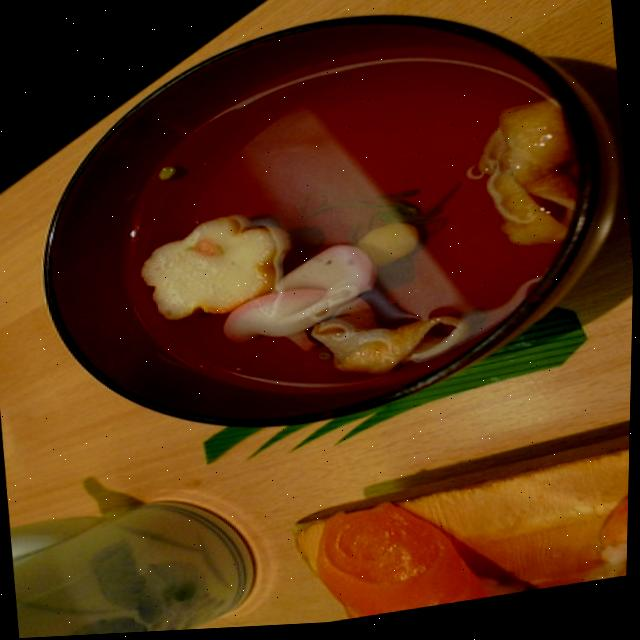汤锅炖物: (39, 0, 626, 456)
